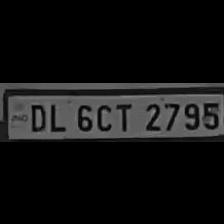2: (138, 99, 162, 131)
5: (200, 98, 222, 128)
6: (72, 99, 94, 130)
7: (160, 98, 180, 130)
9: (180, 99, 200, 129)
C: (92, 99, 114, 130)
D: (26, 99, 46, 130)
L: (46, 99, 68, 131)
T: (113, 99, 135, 130)
